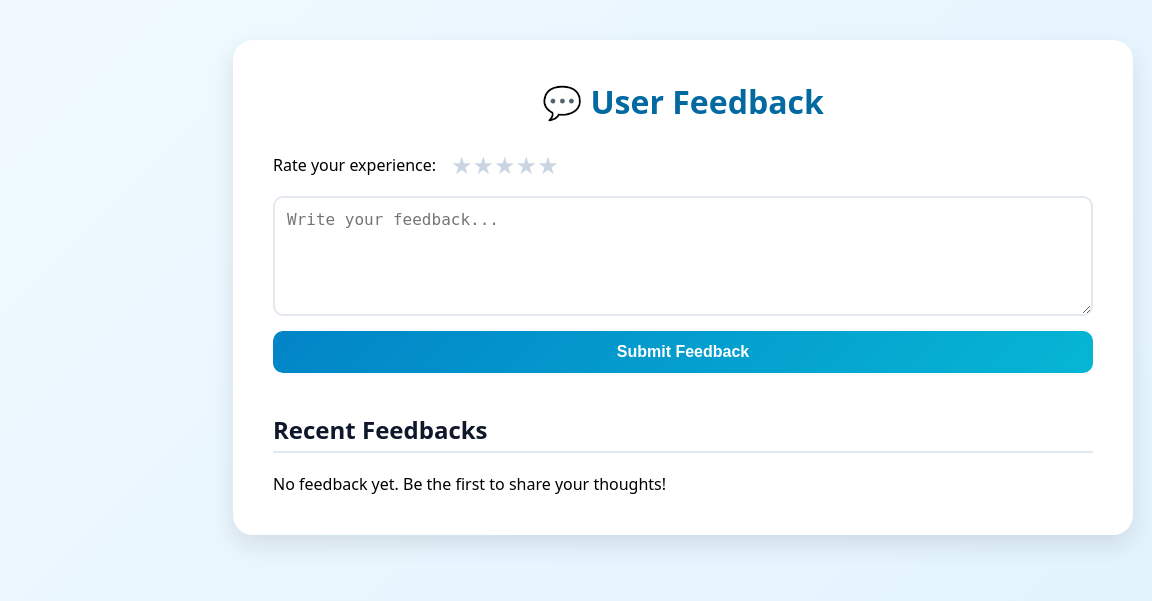
Test: Feedback › the form › refuses to submit without a rating
Type "Nice app" into the text box with placeholder "Write your feedback...".
click(683, 256); type("Nice app")  # box [273,196,1093,316]
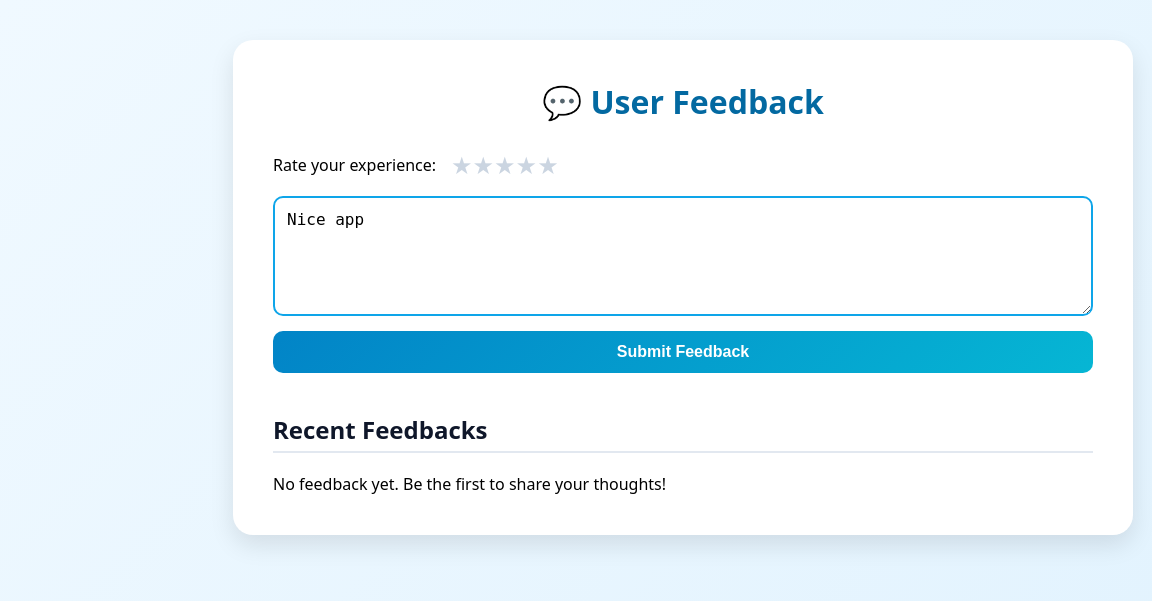
Click the button "Submit Feedback".
click(683, 352)  # box [273,331,1093,373]
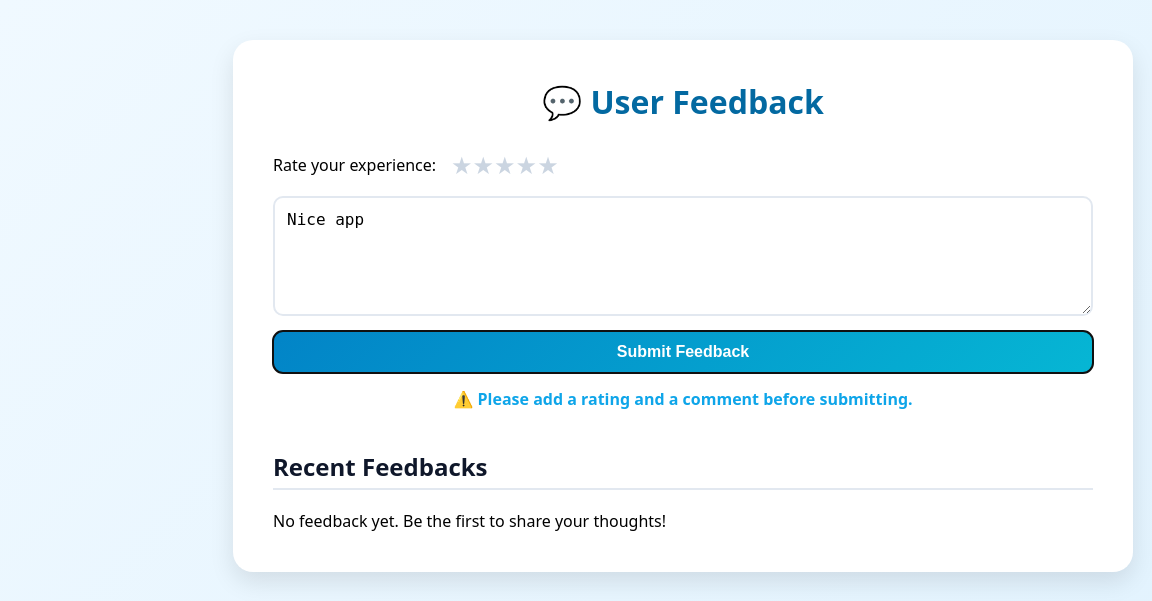
Expected: the text "⚠️ Please add a rating and a comment before submitting." is shown, [453,388,913,410]
